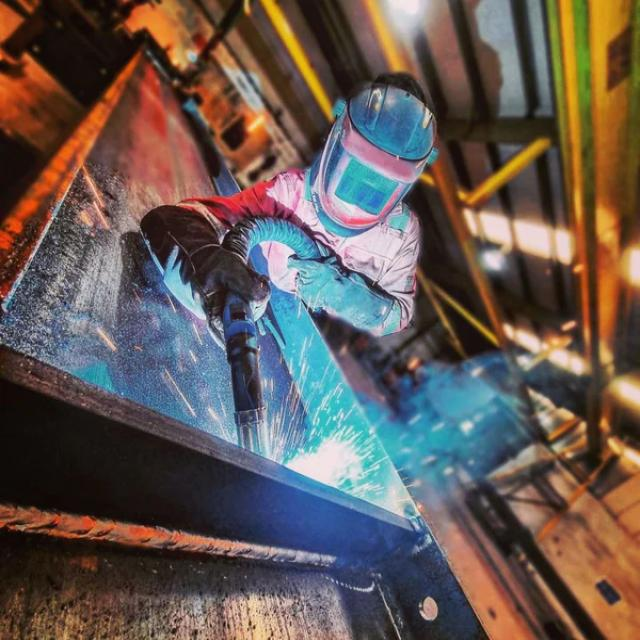welding: (285, 437, 360, 490)
